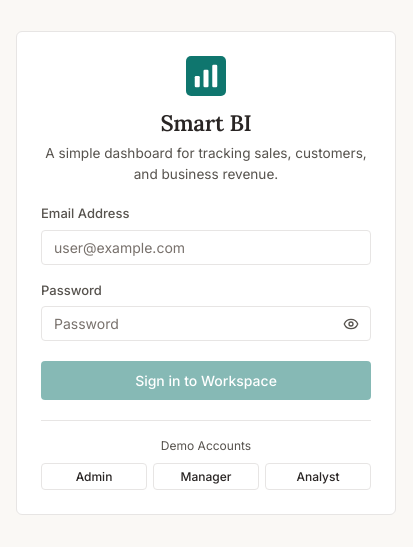
Scenario: Frontend Input Validation & Boundaries › 1. Login Form Validation › disables submit button when inputs are empty or invalid and shows error on blur
Expected: the button "Sign in to Workspace" is disabled, [41,361,371,400]
# Invalid email
Type "invalid-email" into the field labelled "Email Address" at (206, 247), box [41,230,371,265]
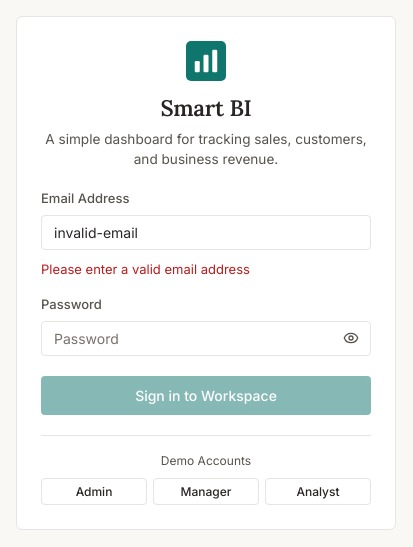
Expected: the button "Sign in to Workspace" is disabled, [41,376,371,415]
Result: the text "Please enter a valid email address" is shown at [41,261,250,277]
# Valid email & password enables button
Replace the text in the field labelled "Email Address" with "admin@bi.corp" at (206, 232), box [41,215,371,250]
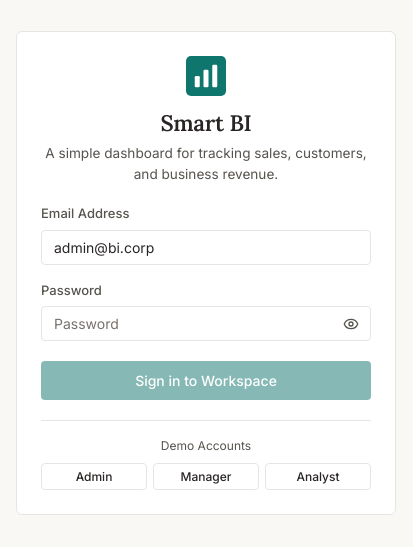
Type "Admin123!" into the password field labelled "Password" at (206, 324), box [41,306,371,341]
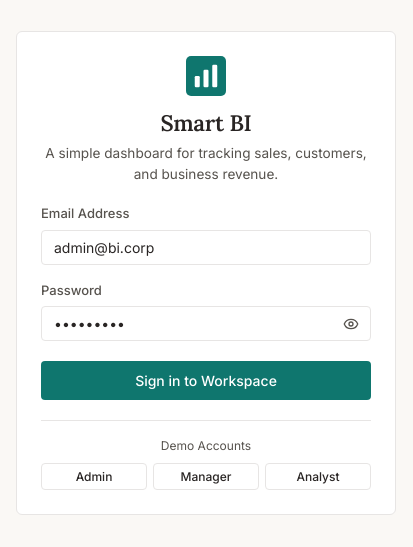
Result: the button "Sign in to Workspace" is enabled at [41,361,371,400]
